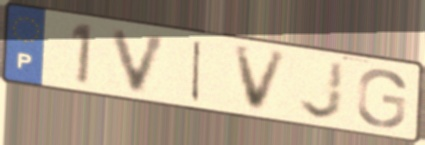1: (68, 22, 94, 89)
G: (354, 67, 409, 129)
I: (188, 37, 206, 104)
J: (296, 58, 348, 122)
V: (109, 27, 173, 97), (231, 44, 292, 113)
